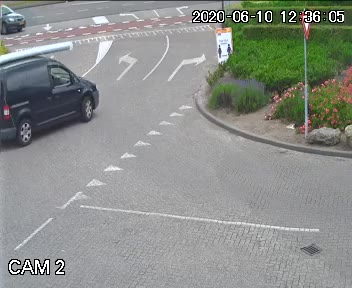car: (0, 43, 106, 150), (0, 0, 33, 35)
